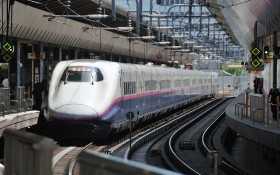hsrw: (44, 57, 221, 144)
